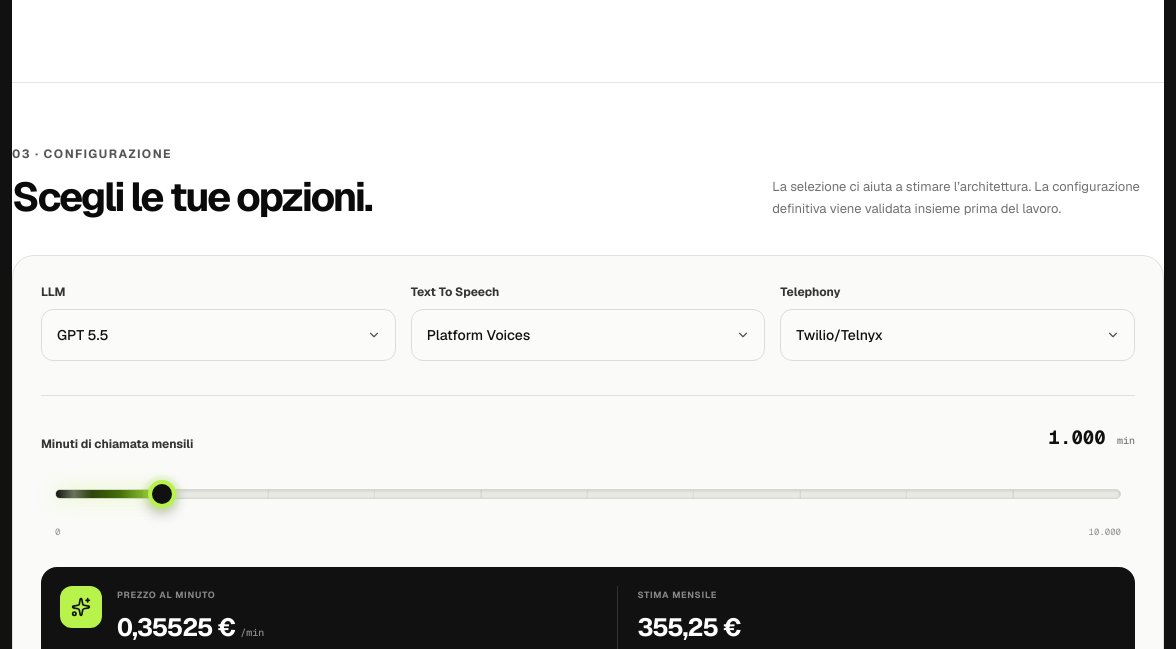
Test: AgentRequestForm › updates the quote when the configuration changes
This screenshot has width=1176, height=649.
(page scrolled)
Select "Custom LLM" in the dropdown labelled "LLM" at (218, 335), box [41,309,396,361]
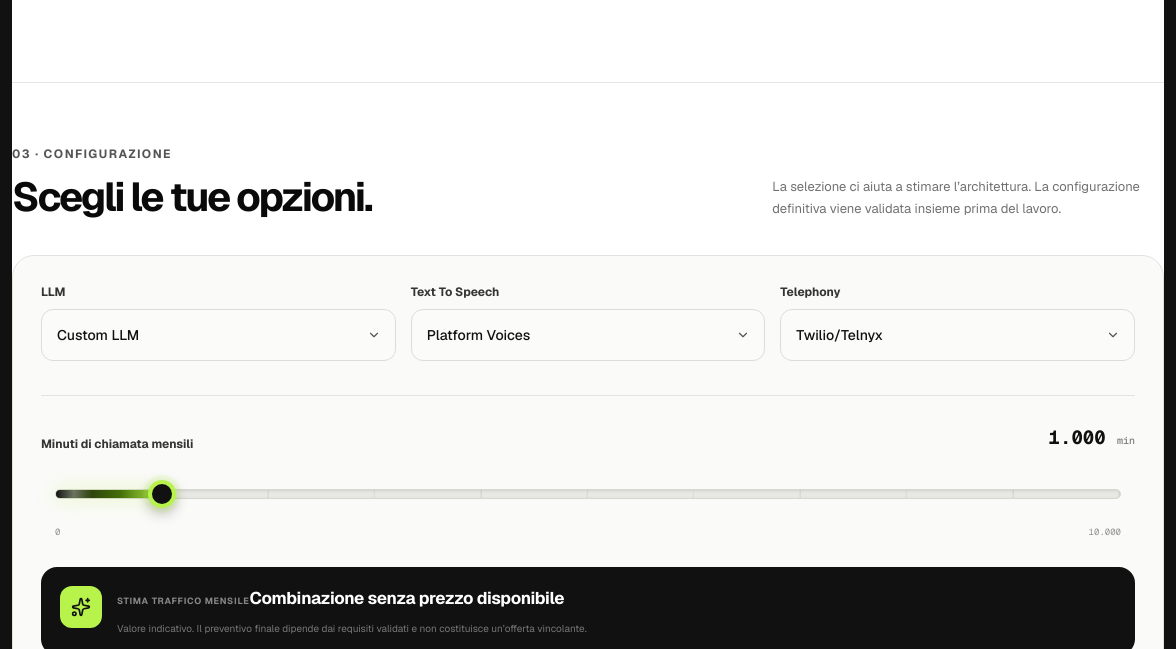
expect the text "Combinazione senza prezzo disponibile" is shown: met, box [250,587,564,609]
